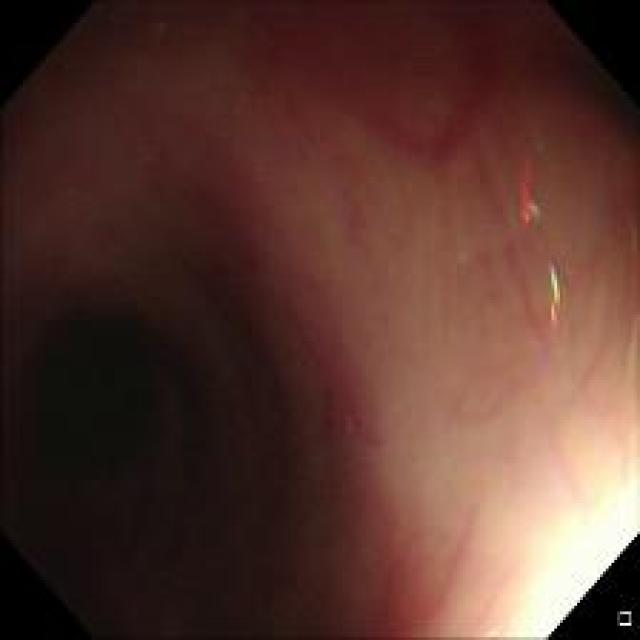blur: (4, 2, 635, 638)
color misalignment: (509, 140, 576, 356)
contrast: (14, 262, 341, 624)
saturation: (506, 456, 636, 634)
